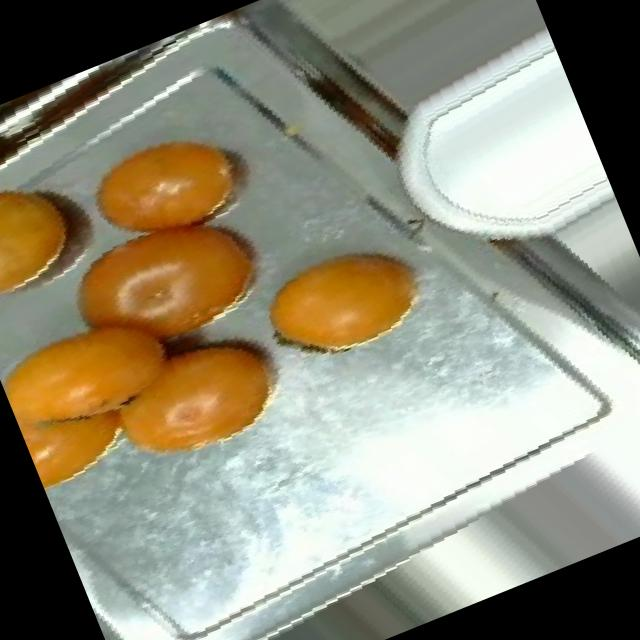Fruit: (45, 70, 298, 286), (78, 296, 316, 496), (227, 199, 460, 396), (0, 133, 127, 329)
